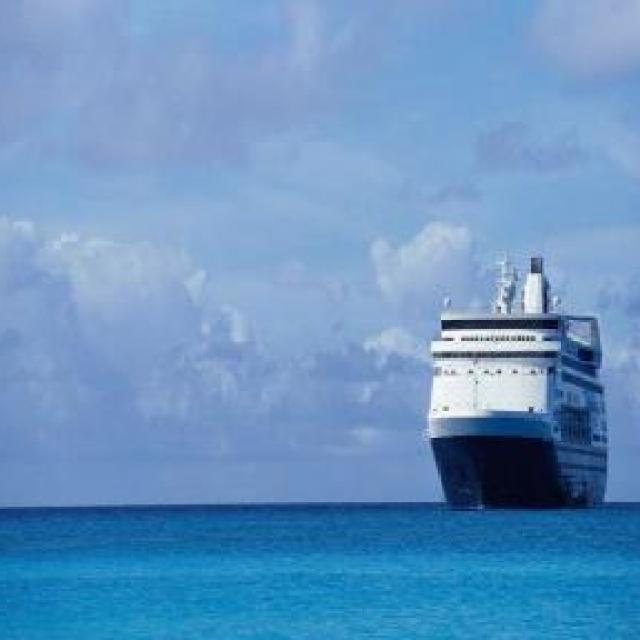passenger ship: (419, 248, 613, 506)
